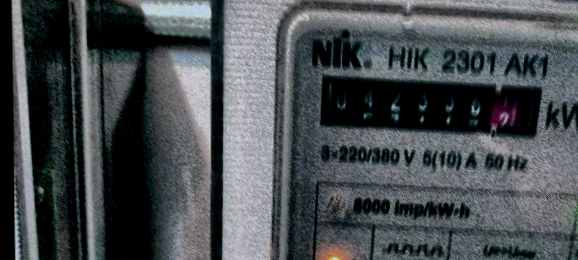0: (333, 84, 346, 114)
2: (385, 86, 403, 113)
3: (412, 85, 428, 115), (441, 86, 455, 114)
4: (359, 85, 375, 112)
6: (466, 92, 481, 119)
screen: (308, 65, 549, 149)
